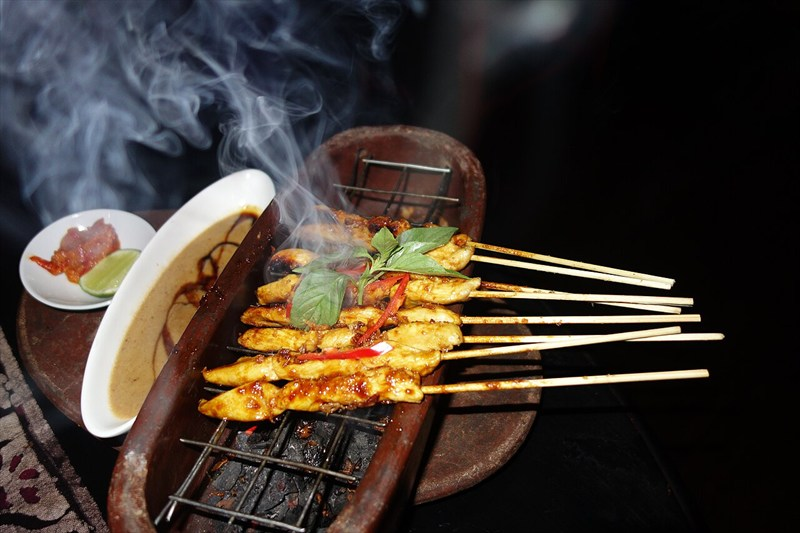Sate Ayam: (52, 163, 673, 423)
